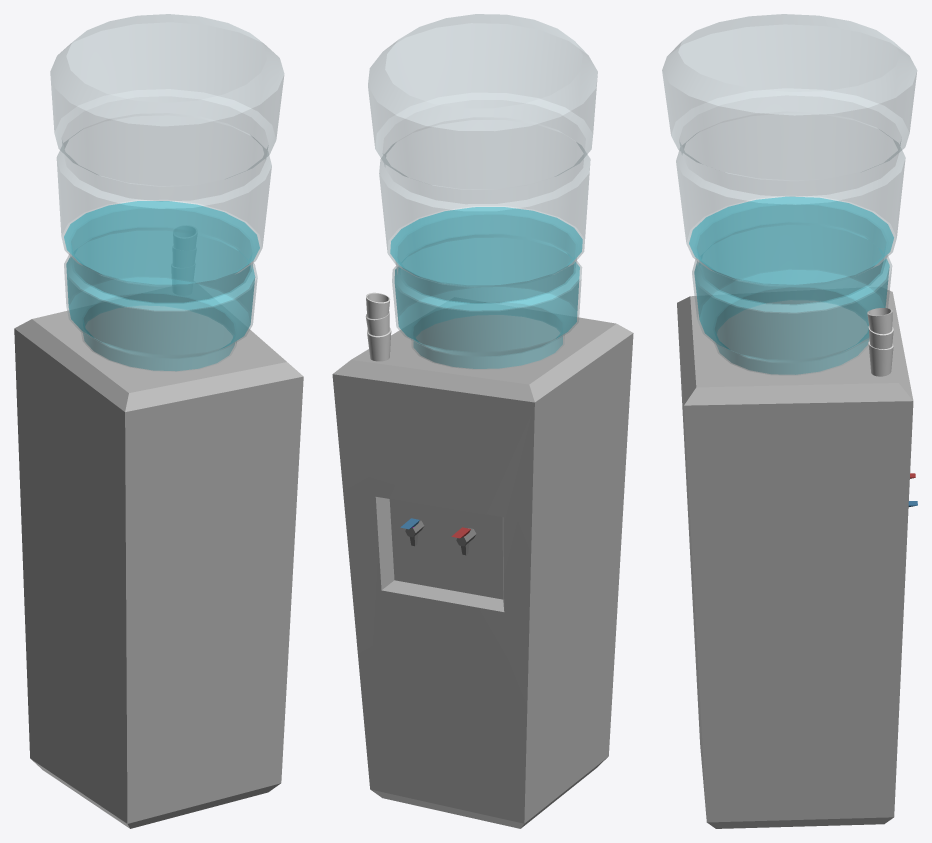
File: Water Cooler.fbx
3 renders of one model, left to right at view 1: azimuth 30°, elevation 25°; view 2: azimuth 150°, elevation 25°; view 3: azimuth 270°, elevation 25°, orthographic. The views are drawn at different scales.
Parts seen in each view (by area): view 1: Water_Coller_0001:Water_Cooler_Convo:Water_Cooler:Water_Cool, Water_Coller_0001:Water_Cooler_Convo:Water_Cooler:pCylinder2, Water_Coller_0001:Water_Cooler_Convo:Water_Cooler:Water; view 2: Water_Coller_0001:Water_Cooler_Convo:Water_Cooler:Water_Cool, Water_Coller_0001:Water_Cooler_Convo:Water_Cooler:pCylinder2, Water_Coller_0001:Water_Cooler_Convo:Water_Cooler:Water, Water_Coller_0001:Water_Cooler_Convo:Water_Cooler:Cup_01, Water_Coller_0001:Water_Cooler_Convo:Water_Cooler:Cup_03; view 3: Water_Coller_0001:Water_Cooler_Convo:Water_Cooler:Water_Cool, Water_Coller_0001:Water_Cooler_Convo:Water_Cooler:pCylinder2, Water_Coller_0001:Water_Cooler_Convo:Water_Cooler:Water, Water_Coller_0001:Water_Cooler_Convo:Water_Cooler:Cup_01, Water_Coller_0001:Water_Cooler_Convo:Water_Cooler:Cup_03.
Boxes of the visible parts, bbox=[...] form: Water_Coller_0001:Water_Cooler_Convo:Water_Cooler:Water_Cool: bbox=[14, 304, 303, 828]; Water_Coller_0001:Water_Cooler_Convo:Water_Cooler:pCylinder2: bbox=[50, 14, 284, 371]; Water_Coller_0001:Water_Cooler_Convo:Water_Cooler:Water: bbox=[64, 201, 259, 370]; Water_Coller_0001:Water_Cooler_Convo:Water_Cooler:Water_Cool: bbox=[332, 314, 633, 828]; Water_Coller_0001:Water_Cooler_Convo:Water_Cooler:pCylinder2: bbox=[368, 14, 597, 369]; Water_Coller_0001:Water_Cooler_Convo:Water_Cooler:Water: bbox=[390, 207, 582, 368]; Water_Coller_0001:Water_Cooler_Convo:Water_Cooler:Cup_01: bbox=[367, 327, 391, 361]; Water_Coller_0001:Water_Cooler_Convo:Water_Cooler:Cup_03: bbox=[366, 292, 390, 318]; Water_Coller_0001:Water_Cooler_Convo:Water_Cooler:Water_Cool: bbox=[677, 290, 913, 828]; Water_Coller_0001:Water_Cooler_Convo:Water_Cooler:pCylinder2: bbox=[662, 14, 916, 375]; Water_Coller_0001:Water_Cooler_Convo:Water_Cooler:Water: bbox=[689, 196, 893, 374]; Water_Coller_0001:Water_Cooler_Convo:Water_Cooler:Cup_01: bbox=[868, 341, 893, 376]; Water_Coller_0001:Water_Cooler_Convo:Water_Cooler:Cup_03: bbox=[867, 308, 892, 334].
Size of the model in its own units: 1.15 by 3.97 by 1.23.
